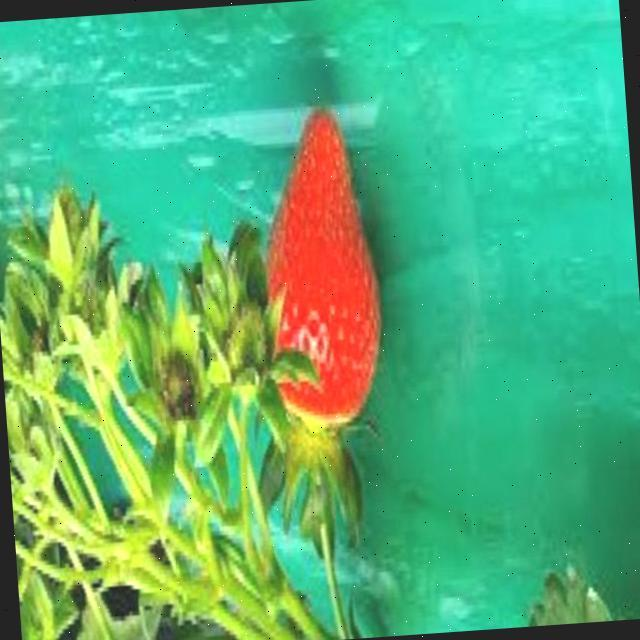ripe: (253, 107, 388, 434)
